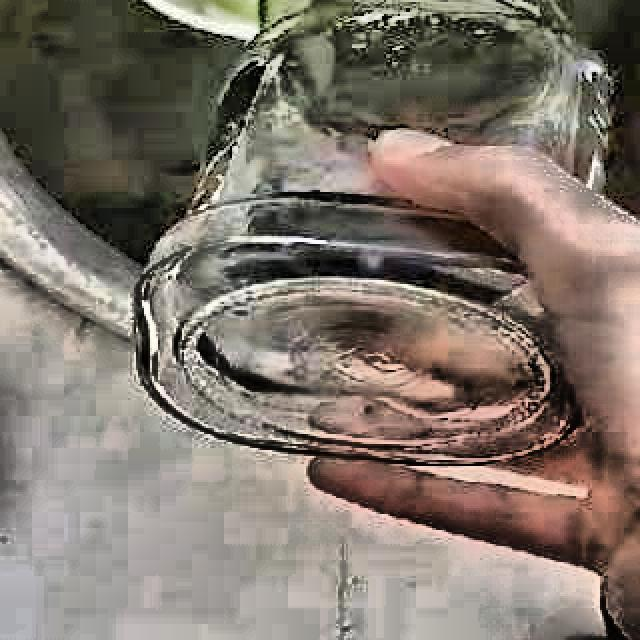glass: (136, 0, 611, 463)
